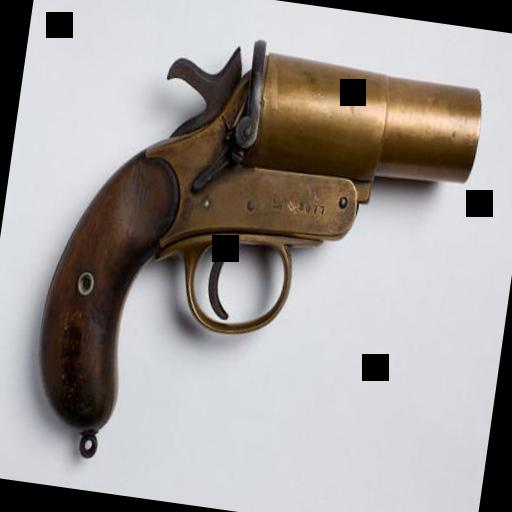Handgun: (20, 4, 492, 504)
